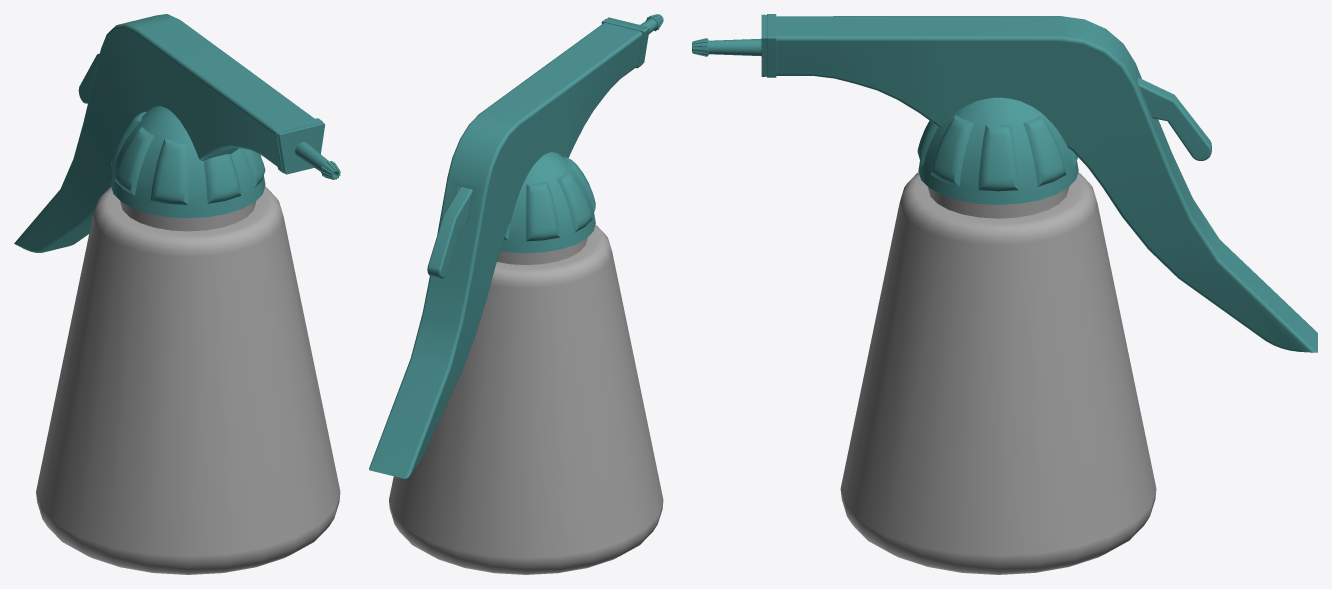
The model's file is SM_Spray.fbx.
3 renders of one model, left to right at view 1: azimuth 30°, elevation 25°; view 2: azimuth 150°, elevation 25°; view 3: azimuth 270°, elevation 25°, orthographic. The views are drawn at different scales.
Visible parts, largest first — view 1: Container_low, Spray_Body_low, Hose_Tip_low, Trigger_low; view 2: Container_low, Spray_Body_low, Trigger_low; view 3: Container_low, Spray_Body_low, Trigger_low, Hose_Tip_low.
Boxes of the visible parts, bbox=[...] form: Container_low: bbox=[36, 106, 340, 574]; Spray_Body_low: bbox=[14, 14, 325, 252]; Hose_Tip_low: bbox=[295, 142, 340, 179]; Trigger_low: bbox=[78, 53, 99, 103]; Container_low: bbox=[389, 152, 663, 574]; Spray_Body_low: bbox=[369, 17, 649, 478]; Trigger_low: bbox=[427, 186, 472, 278]; Container_low: bbox=[840, 97, 1156, 574]; Spray_Body_low: bbox=[761, 14, 1317, 352]; Trigger_low: bbox=[1137, 77, 1211, 160]; Hose_Tip_low: bbox=[692, 38, 761, 56].
Bounding box in the file's own units: 13.72 × 24.45 × 27.2.
